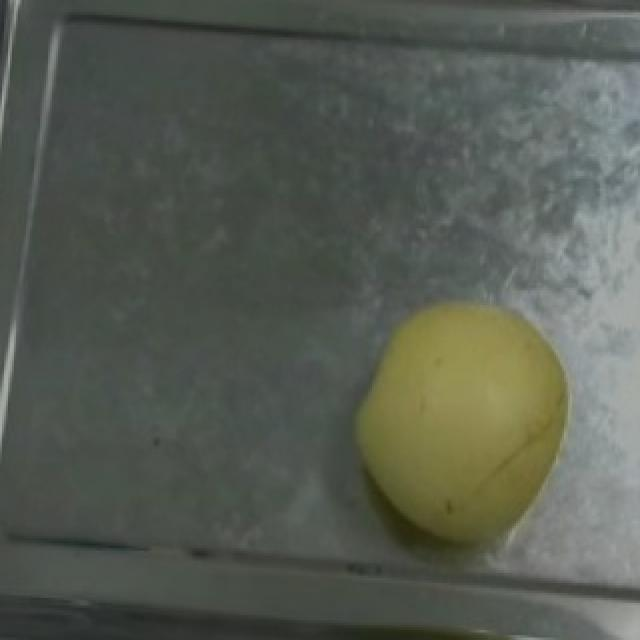Fruit: (336, 283, 586, 553)
